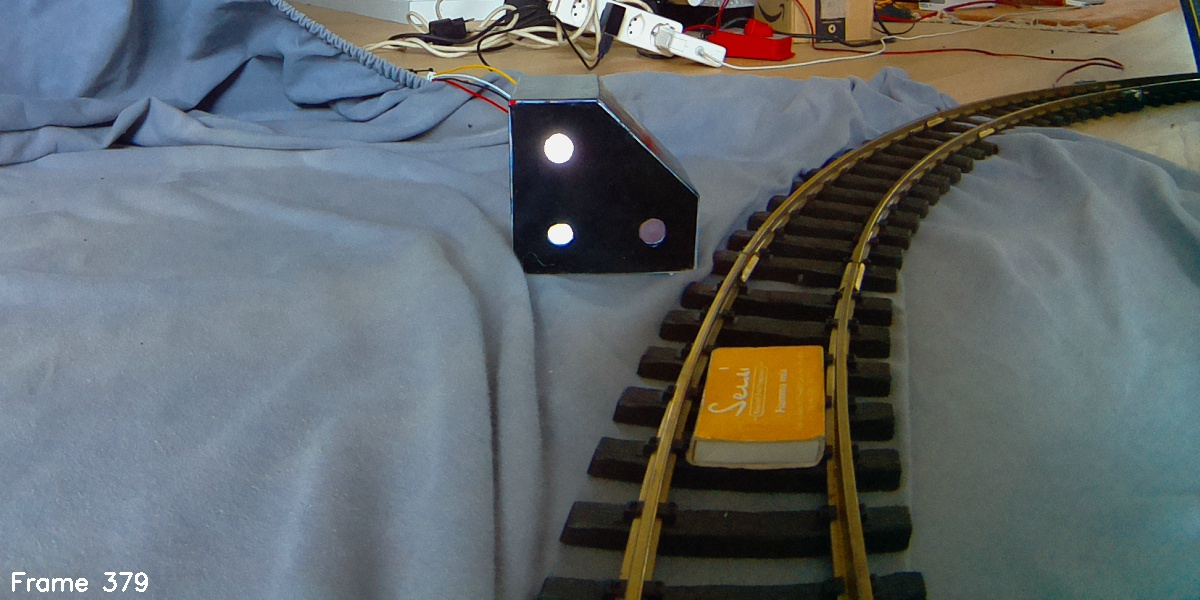Fahrt: (512, 71, 701, 274)
